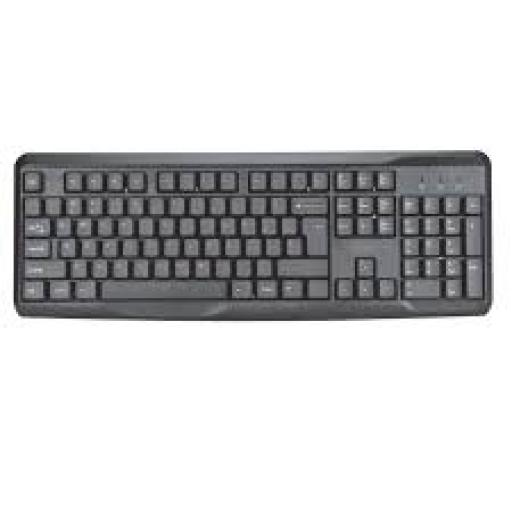KEYBOARD-2: (14, 152, 489, 316)
